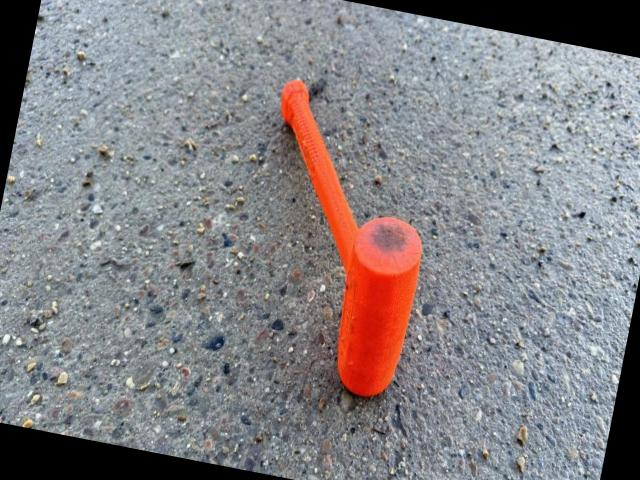hammer: (230, 76, 450, 403)
